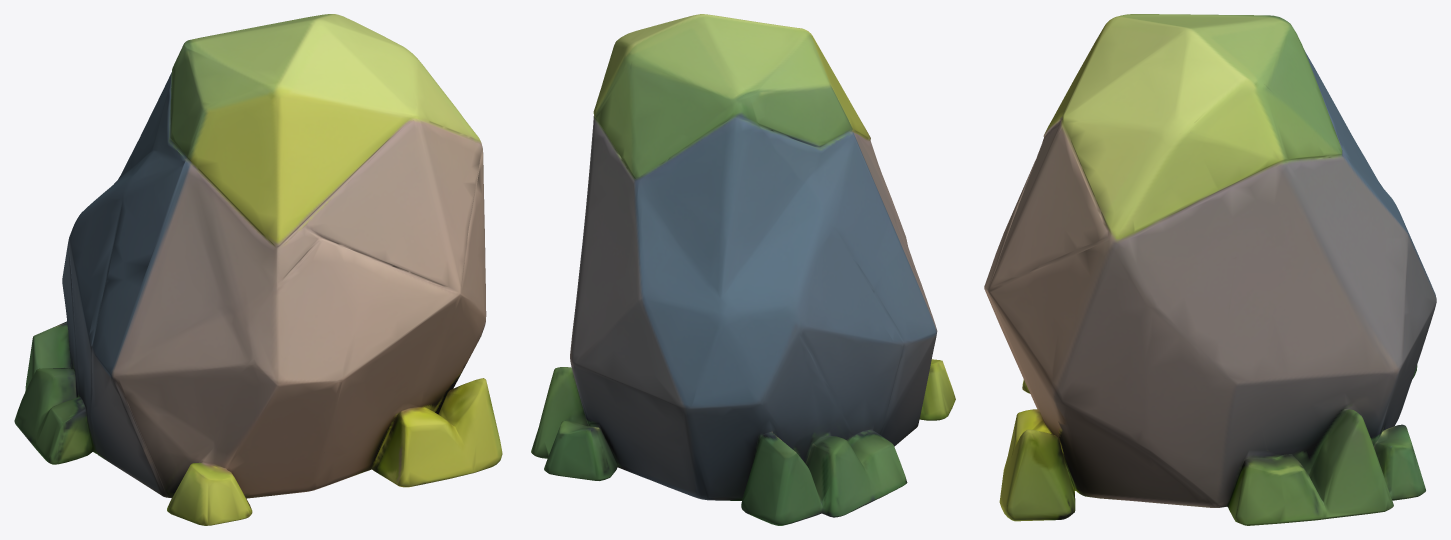
The model's file is stone1.fbx.
3 renders of one model, left to right at view 1: azimuth 30°, elevation 25°; view 2: azimuth 150°, elevation 25°; view 3: azimuth 270°, elevation 25°, orthographic. The views are drawn at different scales.
Parts seen in each view (by area): view 1: stone1; view 2: stone1; view 3: stone1.
Part boxes in pixels (x1,y1,x2,y2): stone1: [14, 14, 502, 525]; stone1: [531, 14, 955, 525]; stone1: [984, 14, 1436, 525].
Bounding box in the file's own units: 27.51 × 28.86 × 26.96.
1 material, 1 textured.
